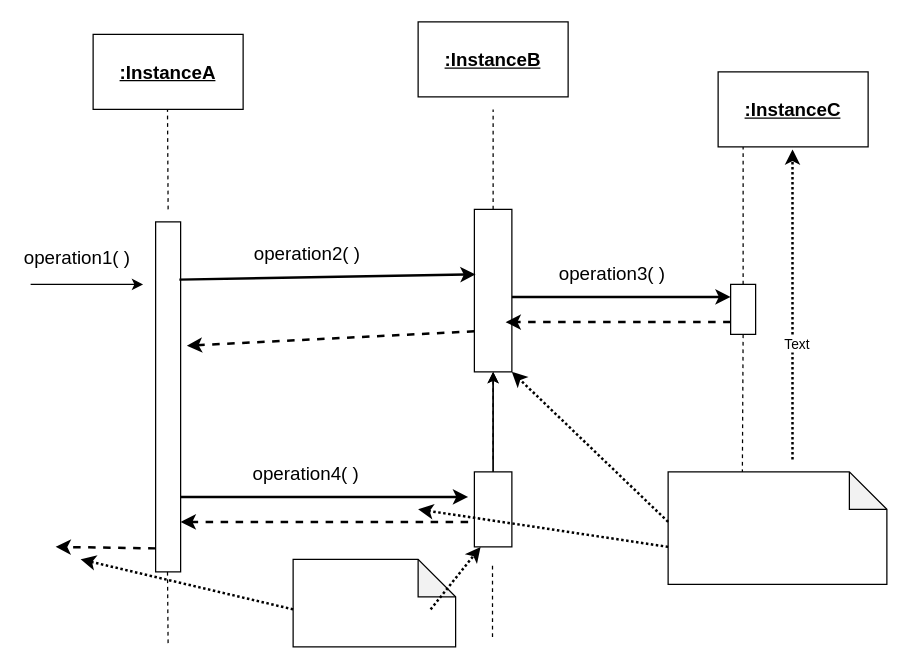
Some shapes in this 909 by 670 pixel diagram are drawn without their labels. Here are the shapes that lost their labels. From the top down, the centre of each, then its label:
At (x=777, y=527): "程式中被建立的物件 執行規格長條格 訊息呼叫（操作）".
At (x=374, y=602): "回復訊息 物件生命線".
